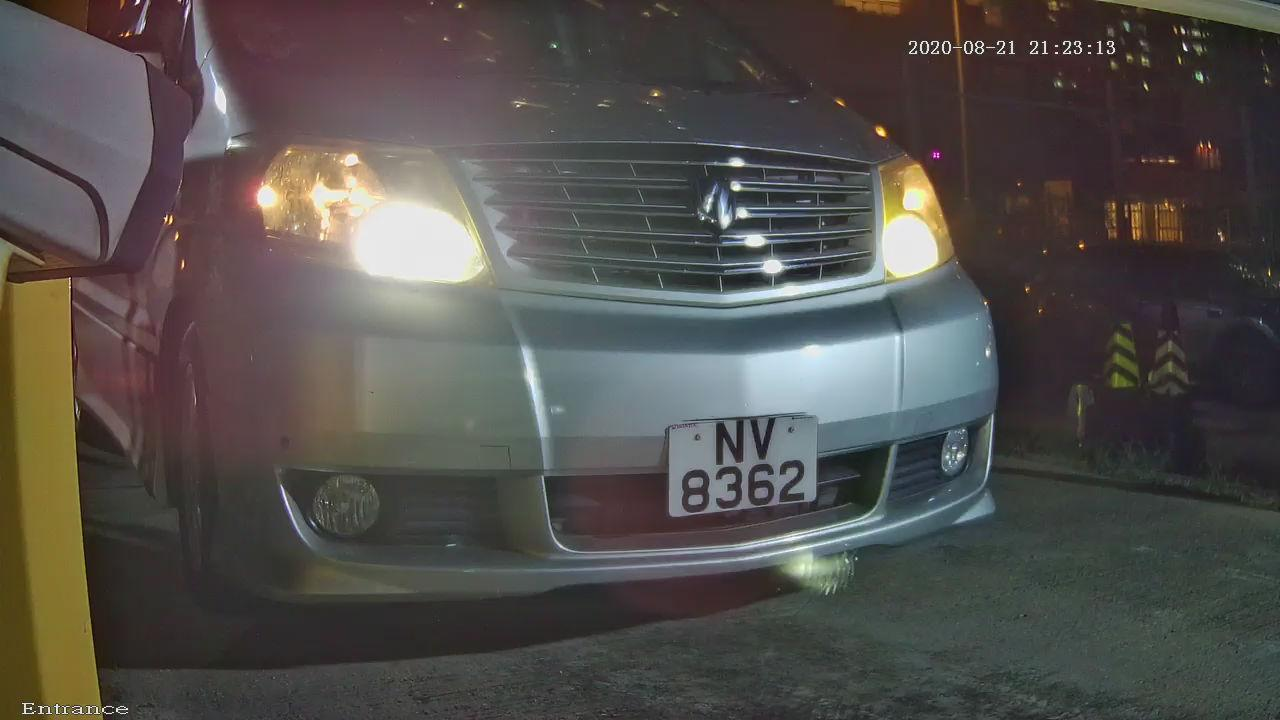Car: (86, 4, 1069, 669)
License Plate: (646, 399, 843, 547)
